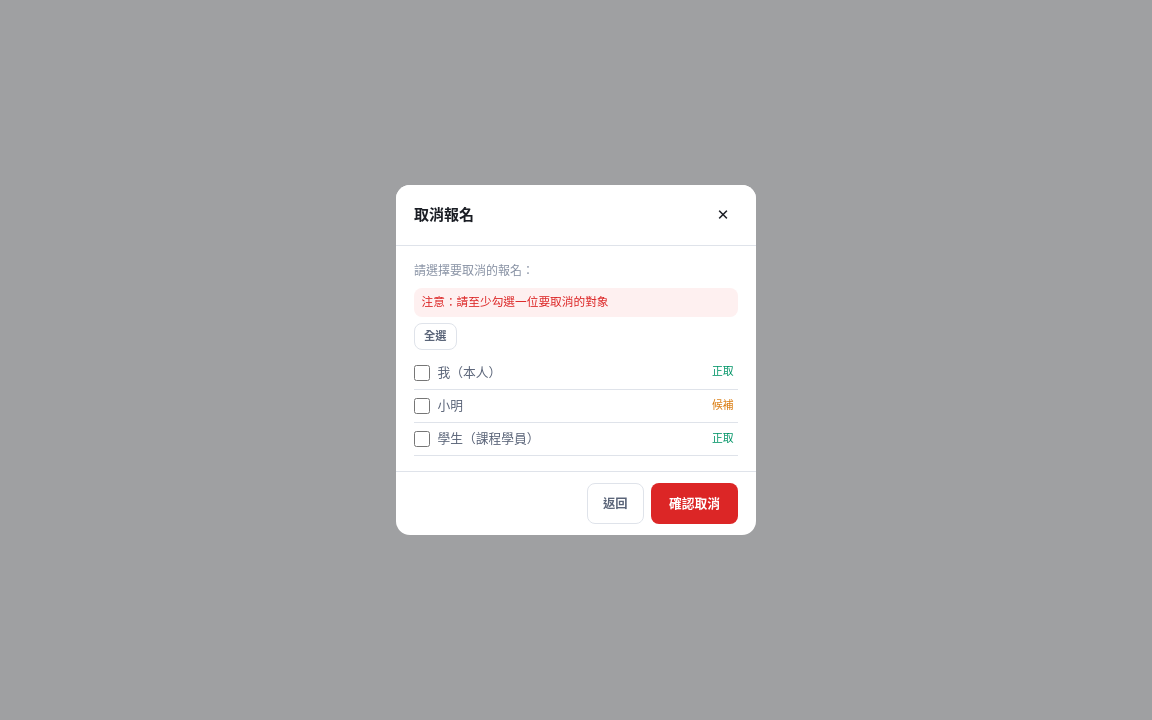
CompanionCancelModal › selectAll 為 false 時開啟不勾選，按全選才全部勾選
This screenshot has width=1152, height=720.
Check: the checkbox labelled "我（本人） 正取" is not checked, box [414,364,430,380]
Check: the checkbox labelled "小明 候補" is not checked, box [414,398,430,414]
Click the button "全選": (435, 337) [414,323,456,350]
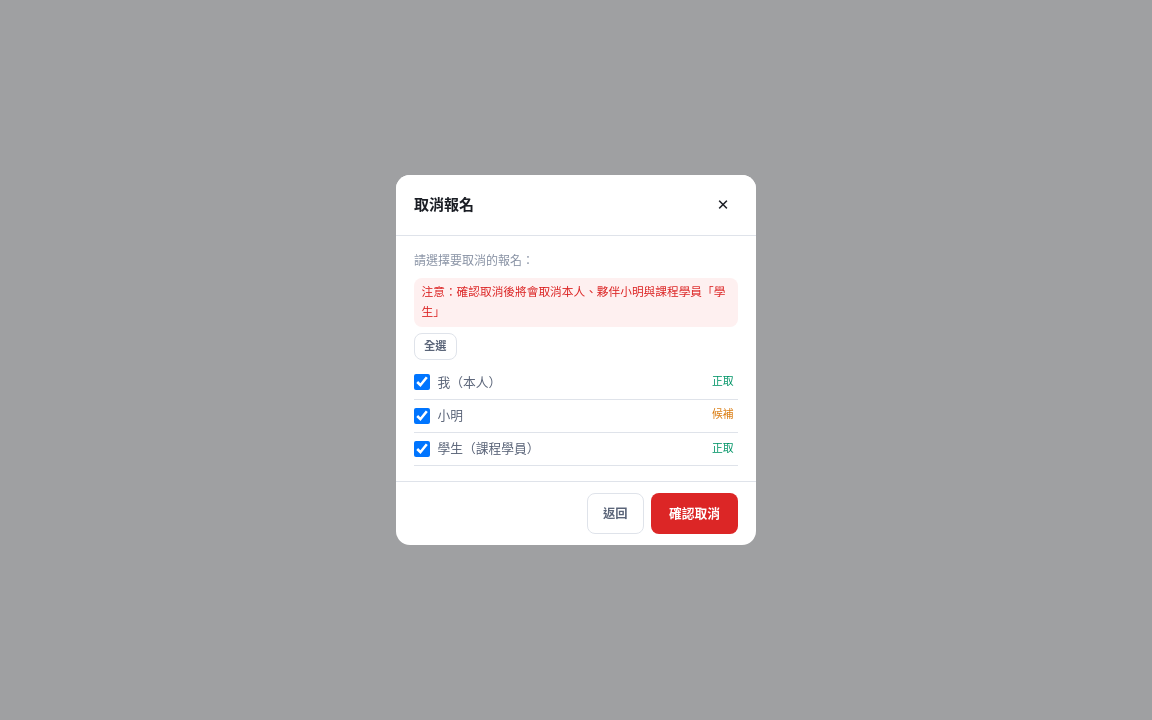
Check: the checkbox labelled "我（本人） 正取" is checked, box [414,374,430,390]
Check: the checkbox labelled "小明 候補" is checked, box [414,408,430,424]
Check: the checkbox labelled "學生（課程學員） 正取" is checked, box [414,441,430,457]
